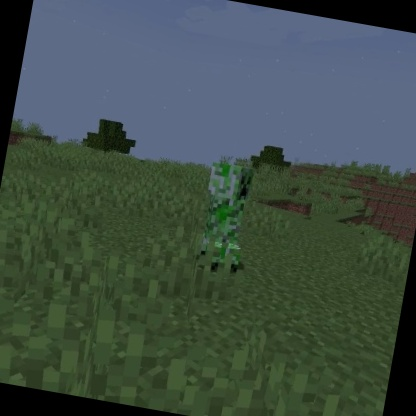creeper: (187, 157, 264, 280)
